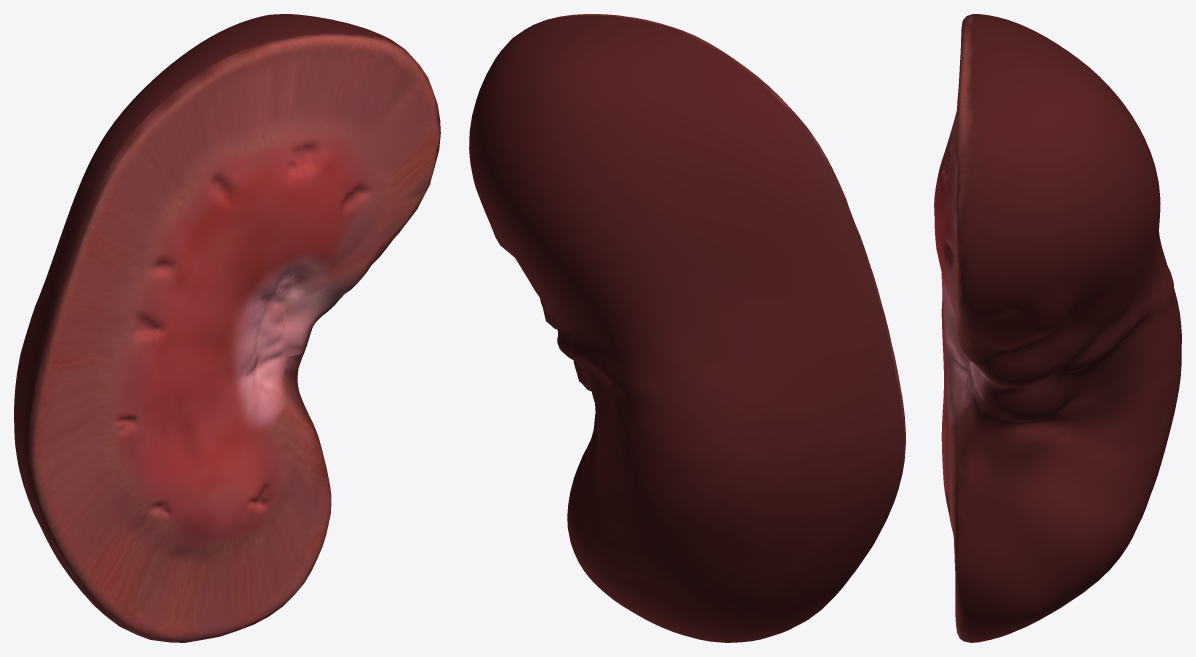
The model's file is 13_pulpy.glb.
The picture shows the model from 3 angles, left to right: view 1: azimuth 30°, elevation 25°; view 2: azimuth 150°, elevation 25°; view 3: azimuth 270°, elevation 25°; orthographic projection. The views are drawn at different scales.
Visible parts, largest first — view 1: bobrektemel; view 2: bobrektemel; view 3: bobrektemel.
Part boxes in pixels (box(x1,y1,x2,y2)): bobrektemel: box(14, 14, 440, 642); bobrektemel: box(469, 14, 905, 642); bobrektemel: box(934, 14, 1181, 642).
Bounding box in the file's own units: 0.7316 × 0.9918 × 0.3593.
Materials: 1 (1 with a texture image).
